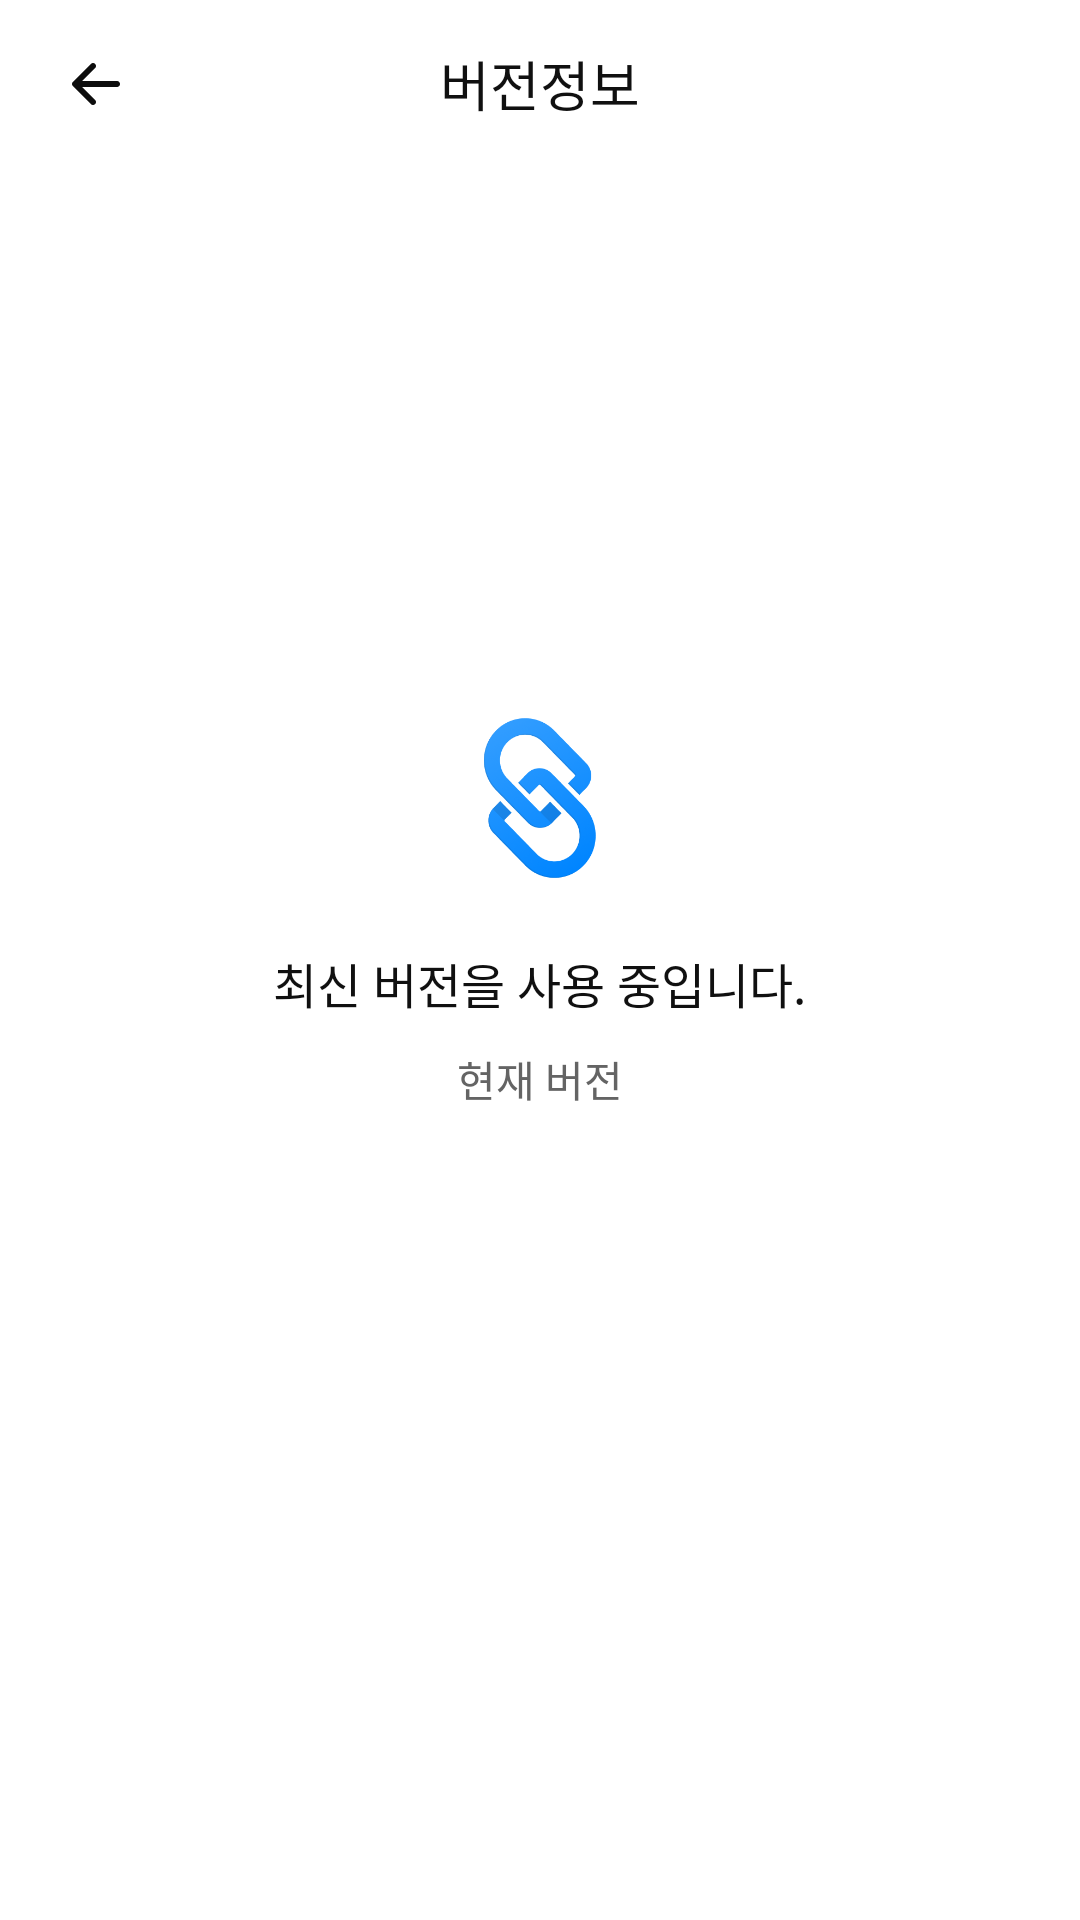

Named icons in this screenshot (1080px x 1920px) and their bounding boxes, (x1, y1, x2, y2):
arrow left: (72, 63, 120, 105)
